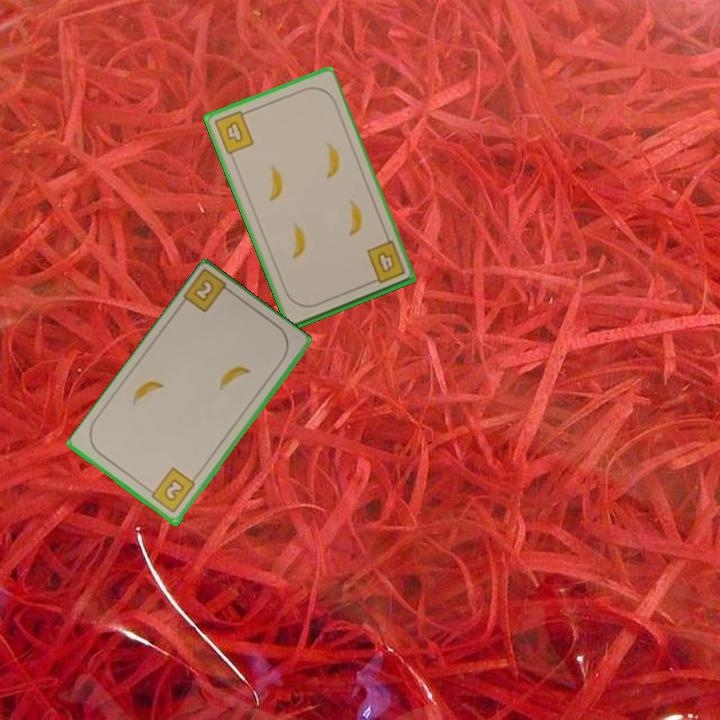2b: (144, 464, 198, 516), (180, 268, 237, 316)
4b: (210, 106, 257, 157), (363, 237, 408, 287)
